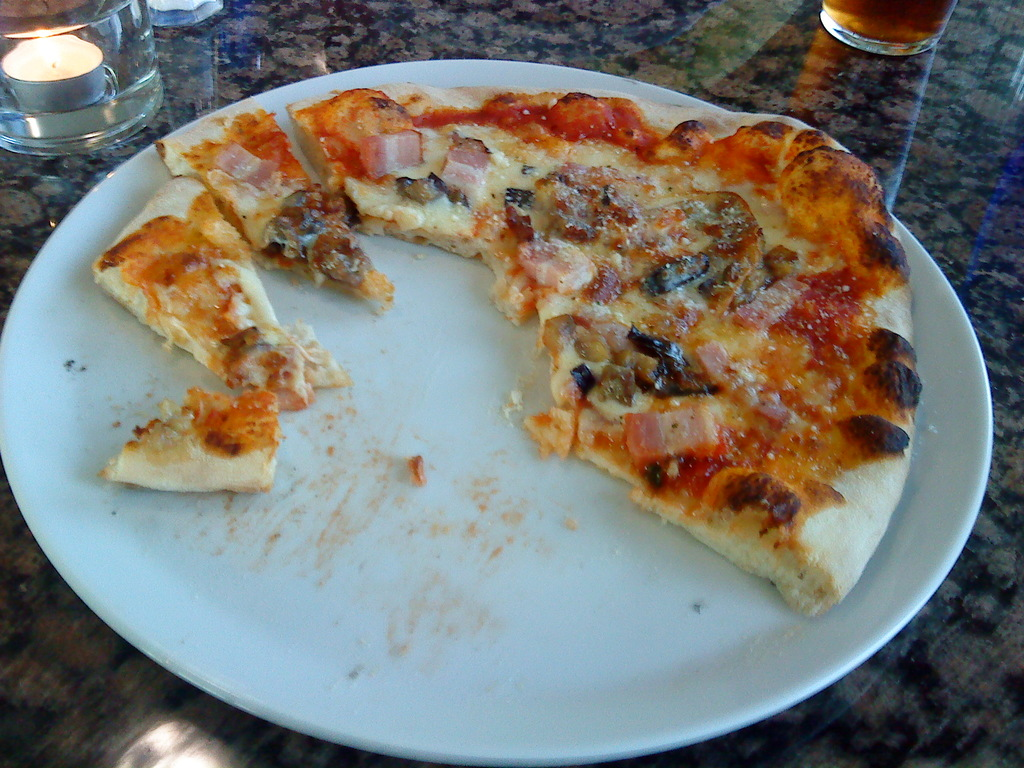Pizza: (91, 71, 969, 620)
